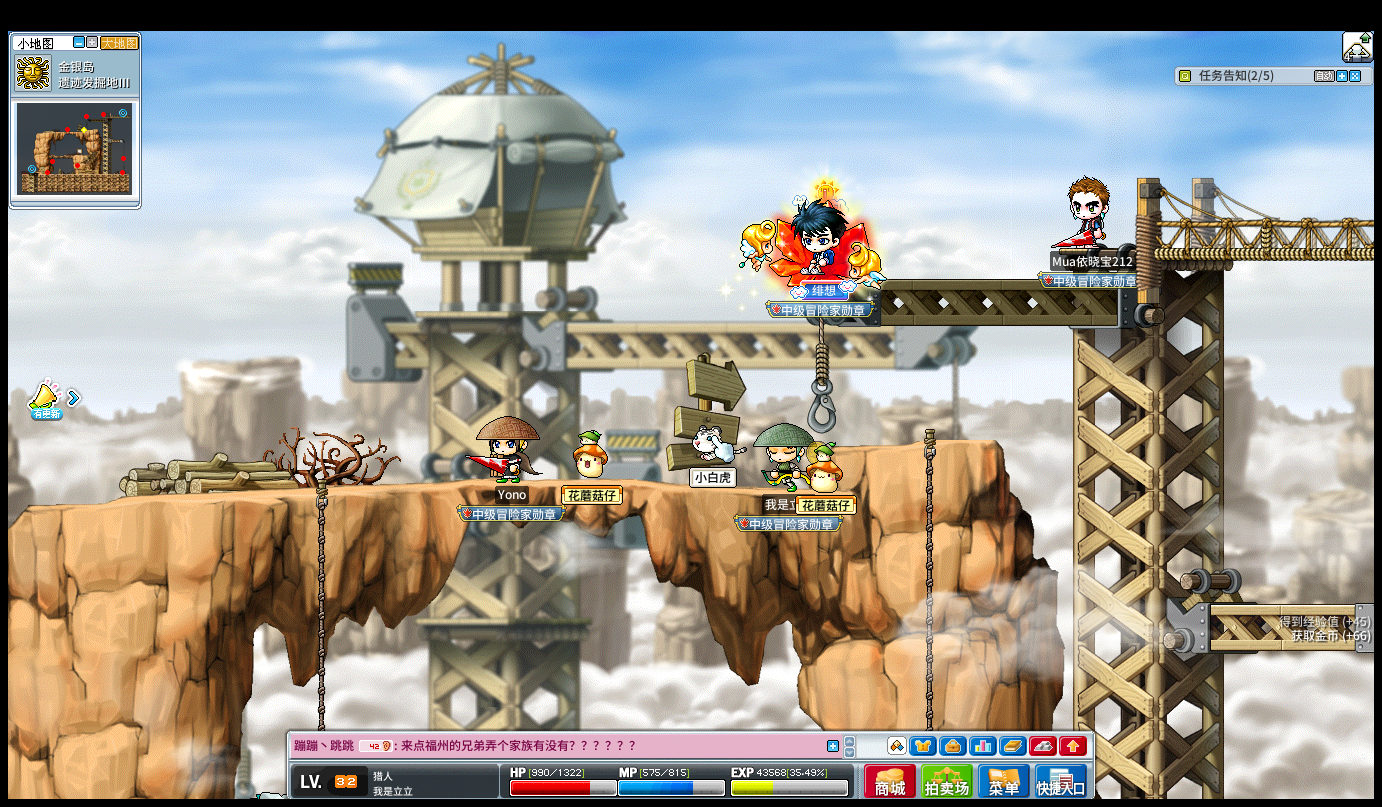floor: (19, 475, 889, 502), (26, 476, 892, 493), (1114, 211, 1374, 230), (1207, 600, 1366, 619), (837, 439, 1001, 453), (836, 436, 999, 450)
rope: (920, 430, 935, 718), (315, 473, 327, 730)
